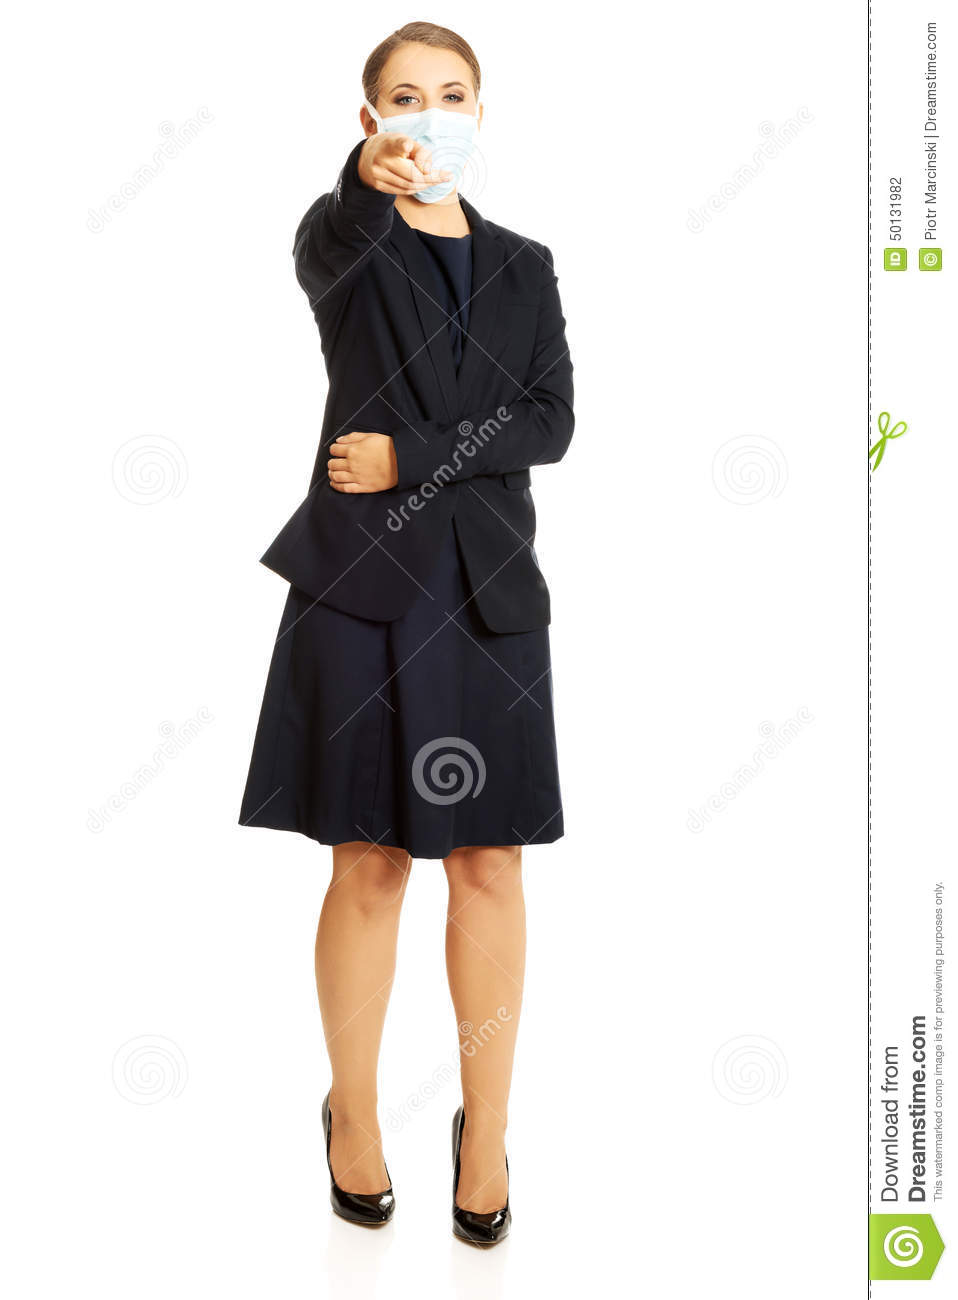mask: (378, 108, 478, 206)
